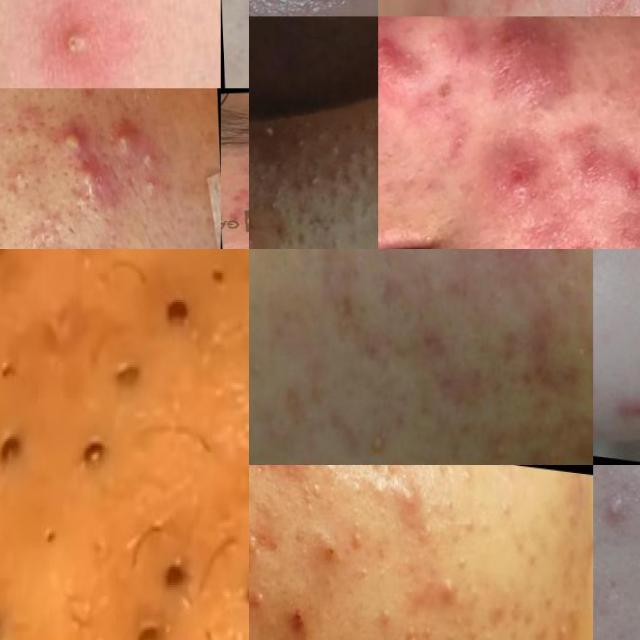acne_scars: (522, 317, 563, 406), (427, 364, 492, 414), (603, 387, 640, 441), (583, 0, 631, 16)
comedone: (249, 71, 378, 249), (160, 548, 204, 600), (129, 605, 175, 640), (18, 210, 64, 243), (0, 426, 35, 469), (338, 517, 374, 558), (73, 431, 110, 469), (486, 494, 517, 539), (164, 291, 197, 333), (356, 431, 395, 465), (475, 437, 515, 465), (249, 577, 270, 629), (294, 471, 327, 502), (537, 609, 569, 640), (396, 609, 426, 640), (452, 513, 475, 552), (249, 352, 269, 380)
cystic: (68, 156, 108, 204)
papule: (381, 474, 426, 537)
pustule: (45, 0, 91, 73), (48, 104, 82, 158), (430, 571, 458, 621), (598, 487, 630, 530), (2, 156, 26, 191), (136, 142, 158, 175), (116, 115, 134, 155), (140, 170, 162, 199)
sebo-crystan-conglo: (469, 16, 605, 140), (378, 16, 442, 130), (240, 180, 249, 209)
